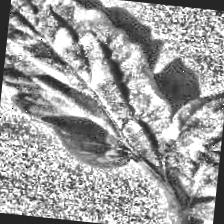leaf mold: (0, 0, 224, 220)
